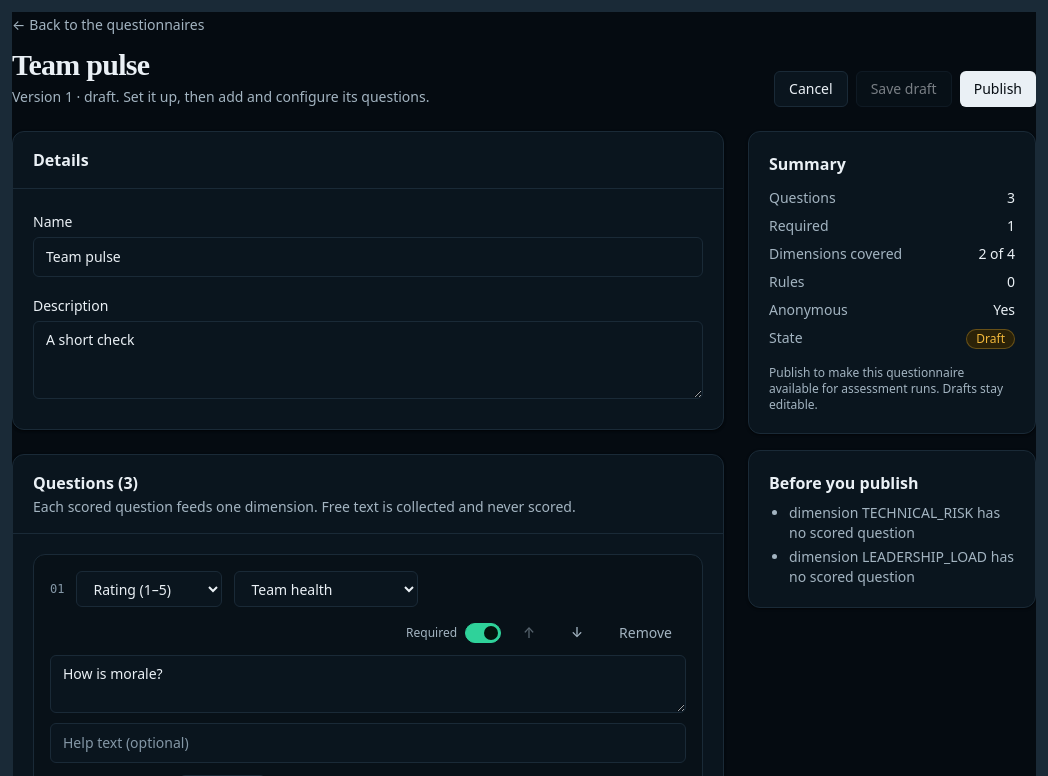
BuilderPage: saving and publishing › saves the document and shows the refreshed checks
Expected: the heading "Team pulse" is shown, [12,48,149,81]
Type " 2" into the field labelled "Name" at (368, 257), box [33,237,703,277]
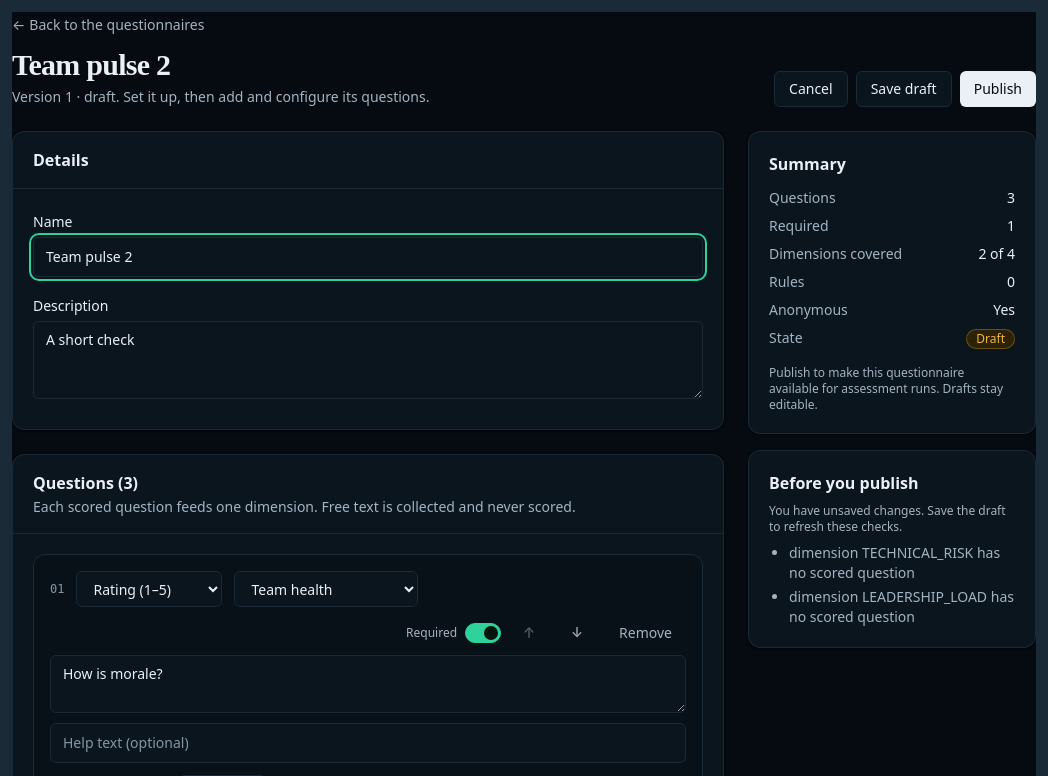
Click the button "Save draft" at (904, 89), box [856,71,952,107]
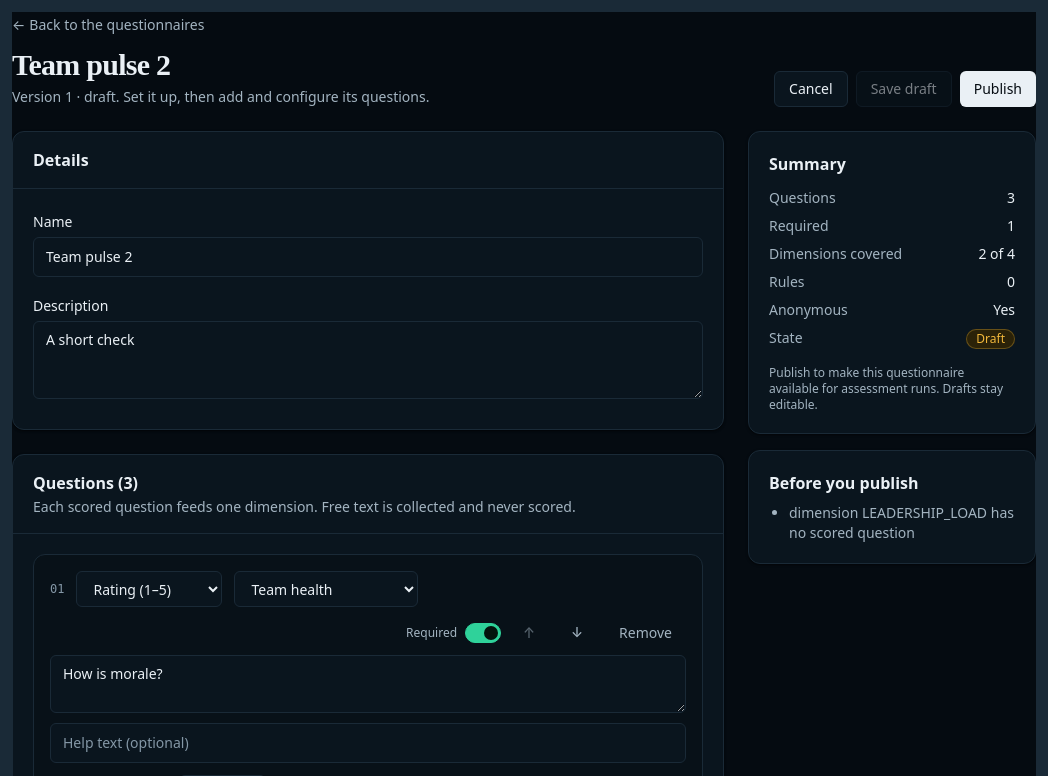
Result: the heading "Team pulse 2" is shown at [12,48,170,81]
Result: the button "Save draft" is disabled at [856,71,952,107]
Result: the list item "dimension TECHNICAL_RISK has no scored question" is gone
